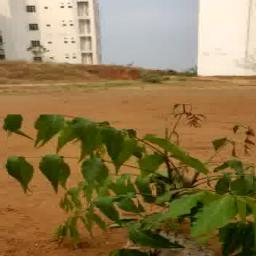Azadiractha Indica: (8, 114, 256, 249), (190, 195, 238, 237), (170, 189, 214, 218), (48, 183, 86, 215), (209, 130, 244, 164), (212, 197, 248, 225), (172, 102, 196, 139), (63, 212, 89, 246), (90, 198, 128, 221), (130, 229, 176, 247), (220, 228, 246, 255), (80, 132, 101, 163), (208, 173, 236, 196), (101, 137, 119, 170), (39, 119, 57, 149), (180, 191, 207, 211), (66, 125, 86, 151), (230, 175, 254, 196), (45, 162, 61, 192), (8, 116, 27, 140), (81, 163, 97, 190), (133, 159, 149, 182), (157, 184, 177, 202), (140, 213, 172, 224), (22, 166, 34, 193), (117, 198, 139, 212), (160, 148, 176, 164), (9, 162, 23, 180), (176, 158, 191, 174), (116, 179, 128, 197), (118, 149, 132, 162), (137, 139, 153, 149)
